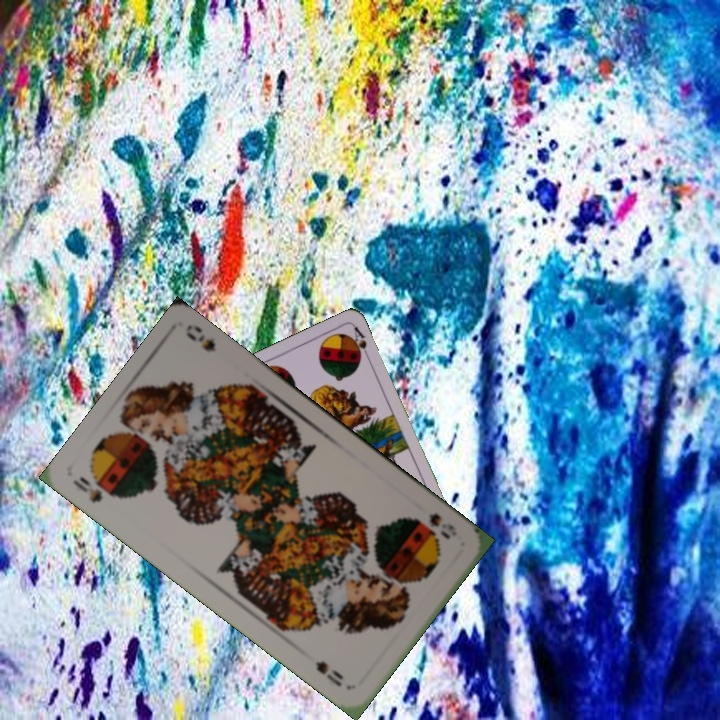SO: (68, 472, 106, 506), (424, 509, 460, 542)
